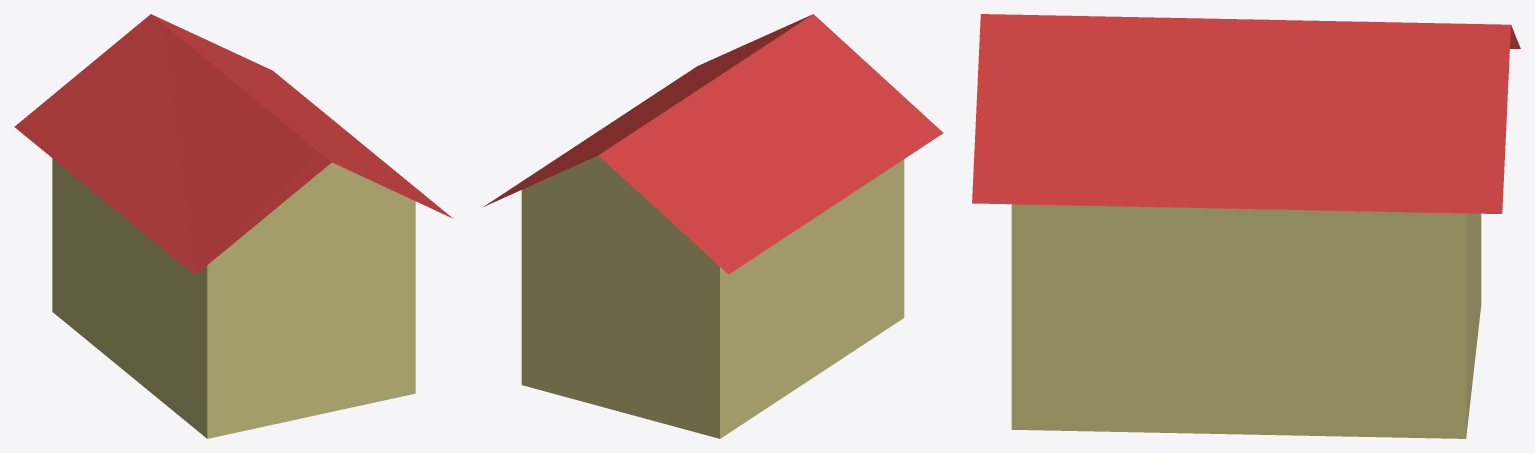
3 views of the same model, side by side, from view 1: azimuth 30°, elevation 25°; view 2: azimuth 150°, elevation 25°; view 3: azimuth 270°, elevation 25° (orthographic). The views are drawn at different scales.
Bounding box in the file's own units: 8.21 × 10.84 × 7.7.
